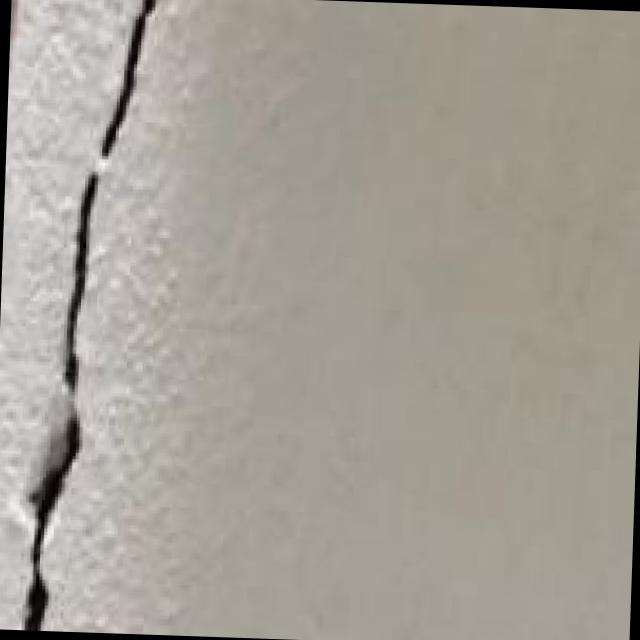crack: (30, 0, 183, 631)
